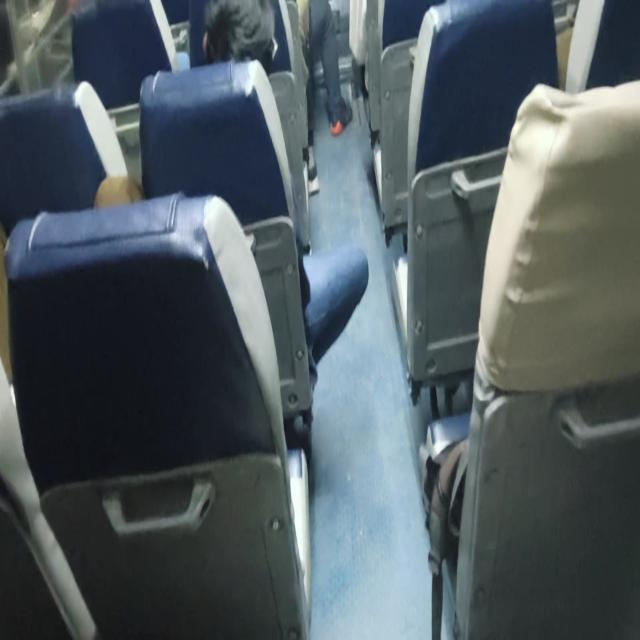person: (200, 1, 370, 384), (201, 0, 319, 196), (296, 0, 354, 136), (202, 0, 278, 75)
